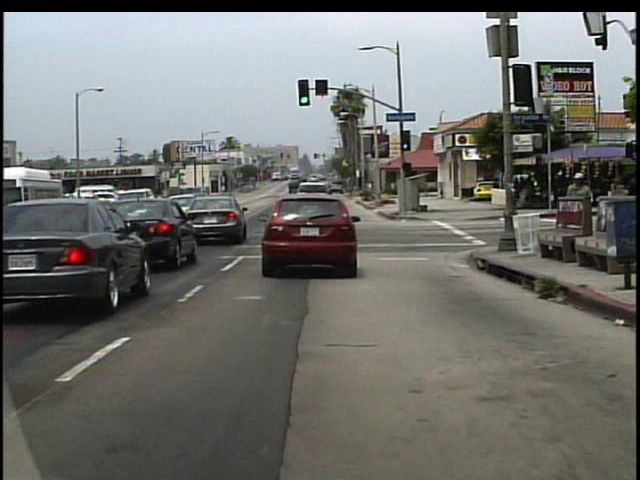person: (562, 169, 596, 254), (490, 176, 502, 207)
